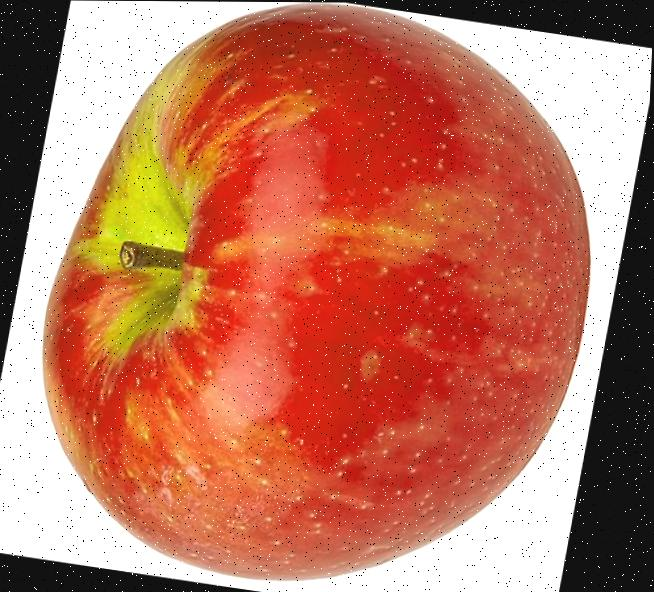HEALTHY: (0, 0, 645, 592)
